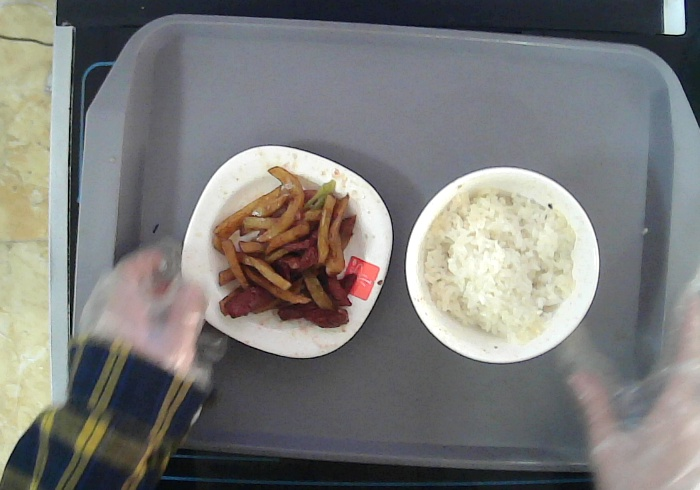SHKJ-Bai_Se_Si_Fang_Cai_Die: (180, 144, 393, 360)
SHKJ-Fan_Wan: (405, 165, 600, 365)
